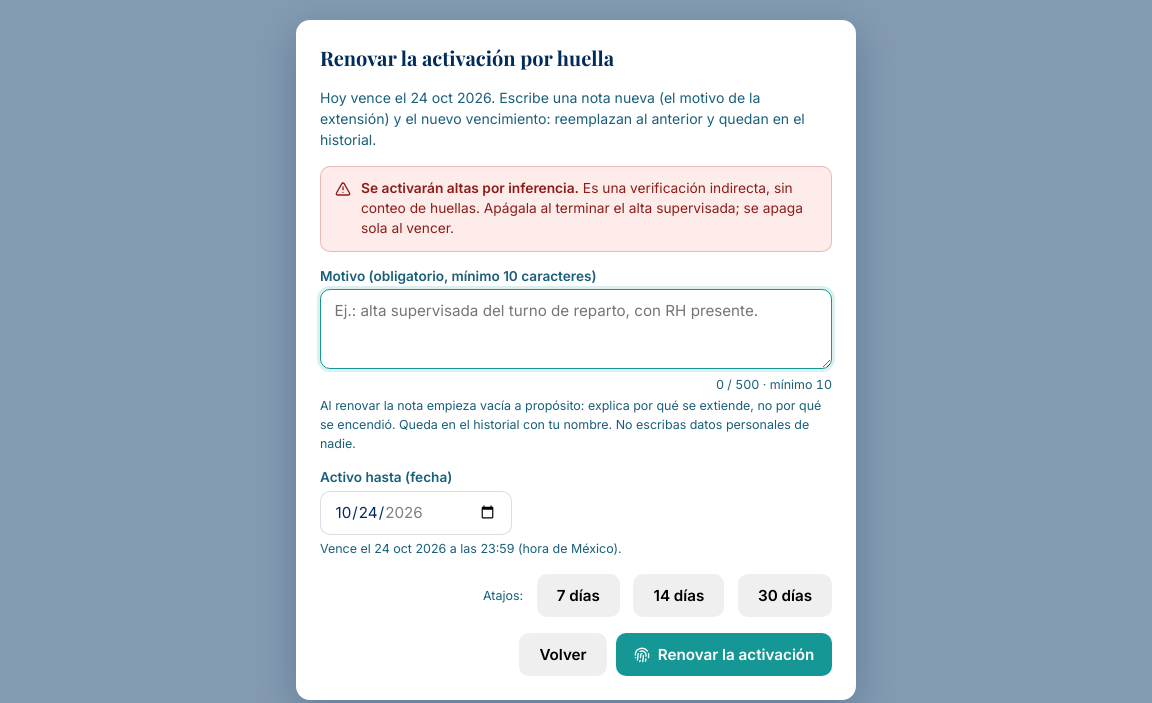
Test case: CambiarInterruptorHuellaModal › un 409 de refresco sin estado completo no refresca: cae al error genérico
Type "Alta supervisada del turno de reparto, con RH presente." into the text box labelled "Motivo (obligatorio, mínimo 10 caracteres)" at (576, 330), box [320,290,832,370]
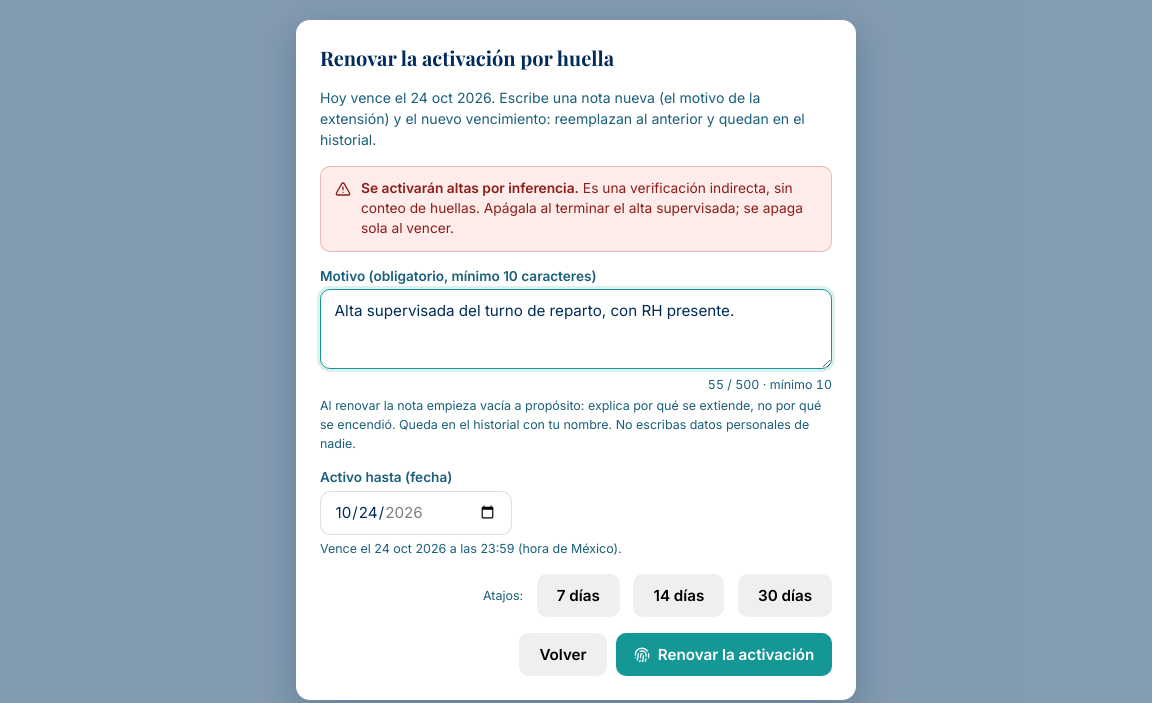
Click the button "Renovar la activación" at (724, 655), box [616,633,832,676]
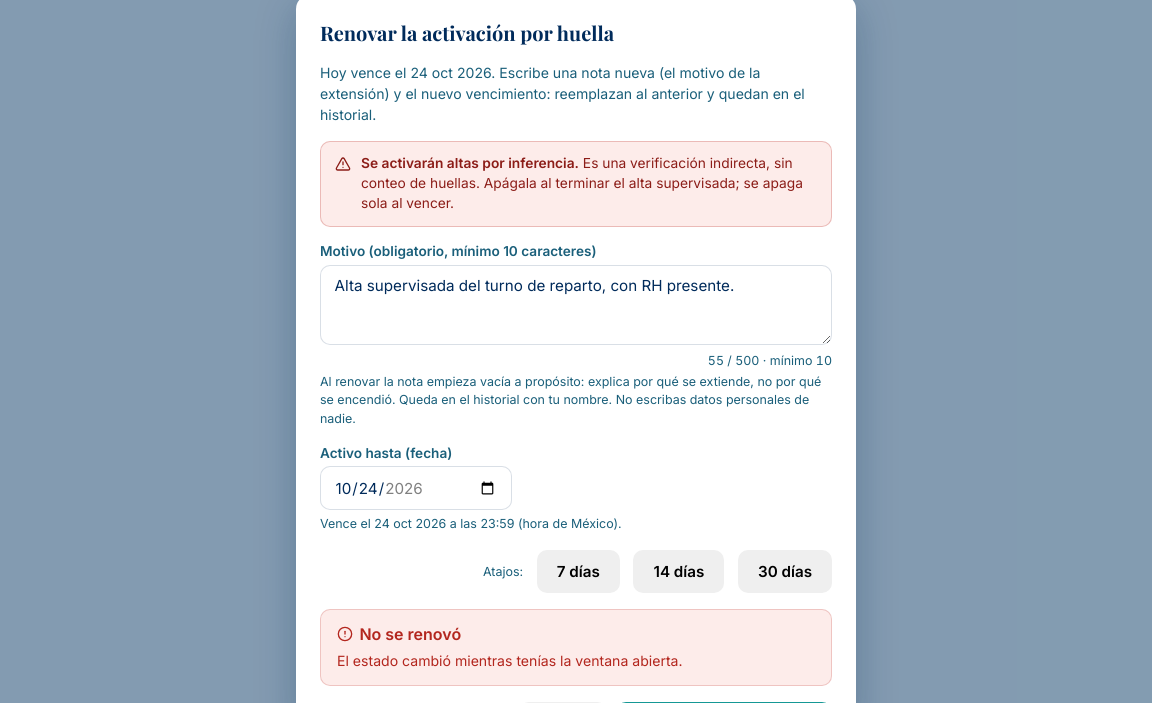
Expected: the message "No se renovó El estado cambió mientras tenías la ventana abierta." is shown, [320,609,832,686]
